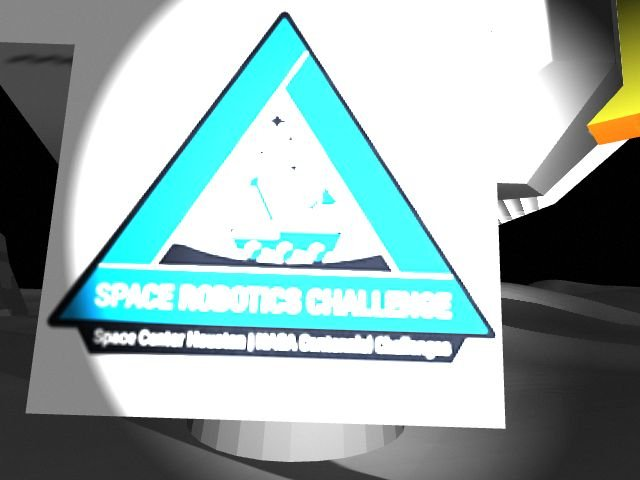basemarker: (46, 8, 497, 365)
